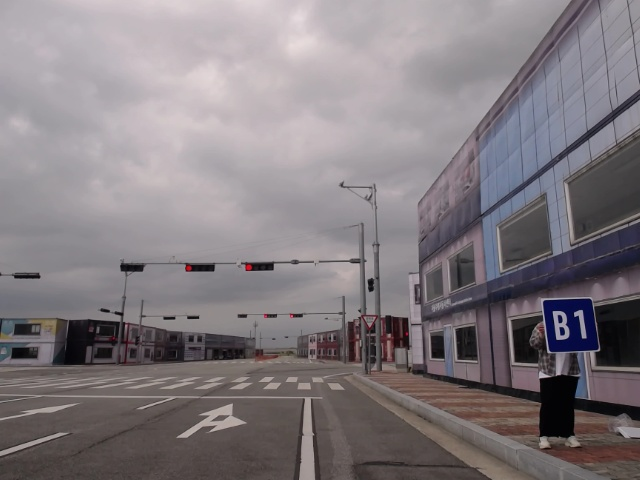delivery_b1: (541, 298, 600, 352)
red_4: (185, 263, 215, 272), (245, 262, 274, 271), (264, 314, 277, 318), (290, 314, 303, 318)
